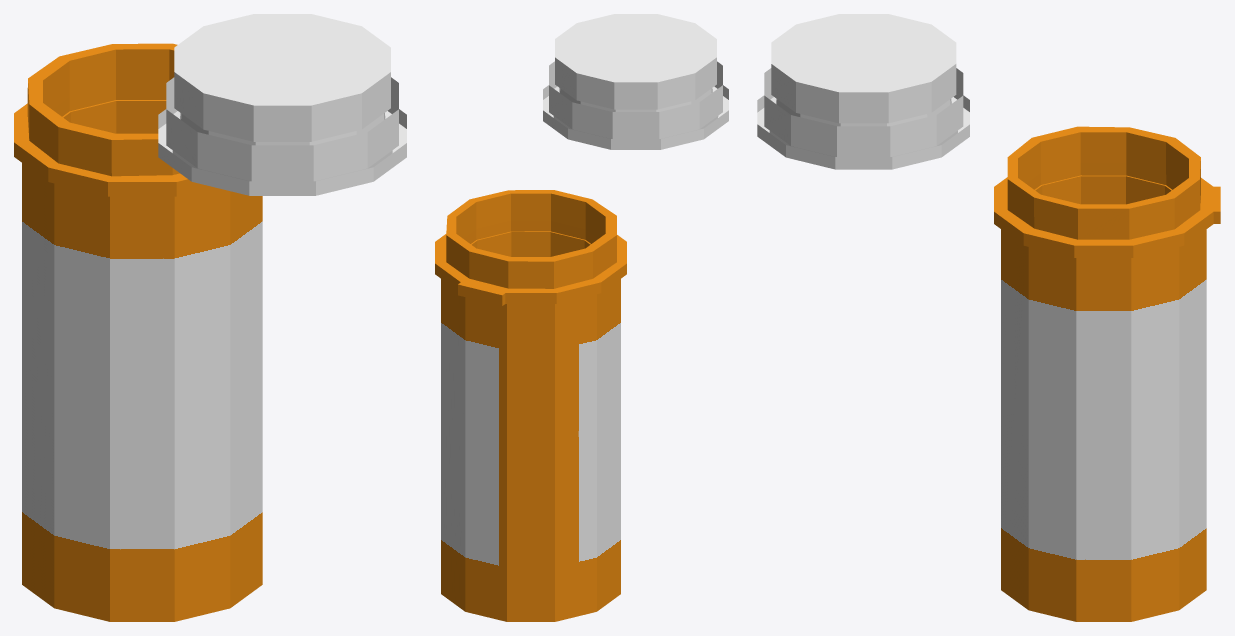
File: pill_bottle_lowpoly.glb
The picture shows the model from 3 angles, left to right: view 1: azimuth 30°, elevation 25°; view 2: azimuth 150°, elevation 25°; view 3: azimuth 270°, elevation 25°; orthographic projection. The views are drawn at different scales.
Visible parts, largest first — view 1: bottle_2, cylinder_0; view 2: bottle_2, cylinder_0; view 3: bottle_2, cylinder_0.
Part boxes in pixels (x1,y1,x2,y2): bottle_2: (14, 43, 262, 621); cylinder_0: (158, 14, 406, 195); bottle_2: (435, 190, 626, 621); cylinder_0: (543, 14, 728, 149); bottle_2: (994, 126, 1220, 621); cylinder_0: (757, 14, 969, 169).
Bounding box in the file's own units: 1.28 × 3.39 × 2.71.
Materials: 2 (2 with a texture image).
